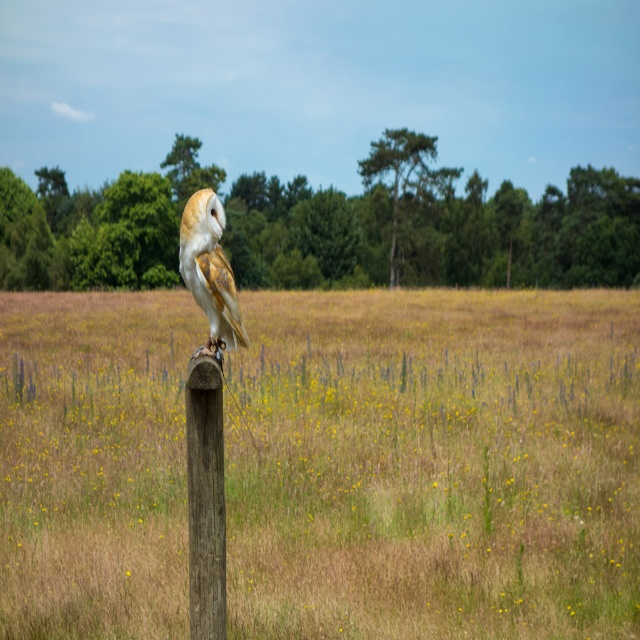Owl: (176, 185, 247, 364)
